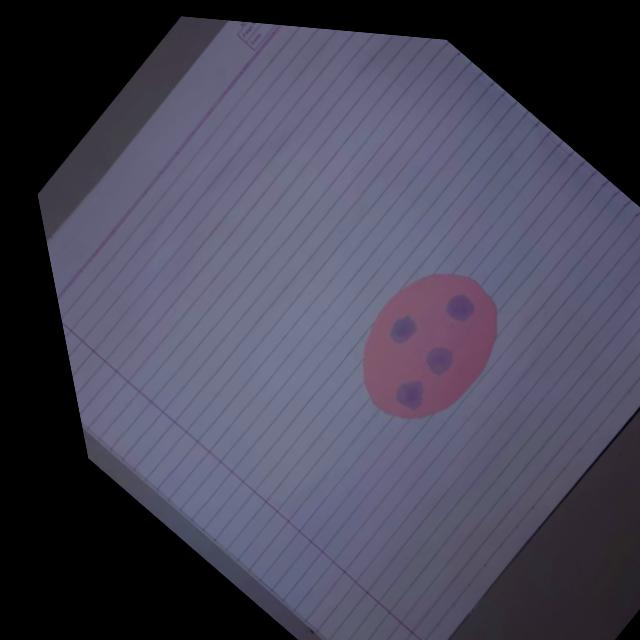BlueColor: (397, 381, 423, 410), (390, 316, 416, 343), (426, 348, 452, 375), (447, 295, 473, 321)
